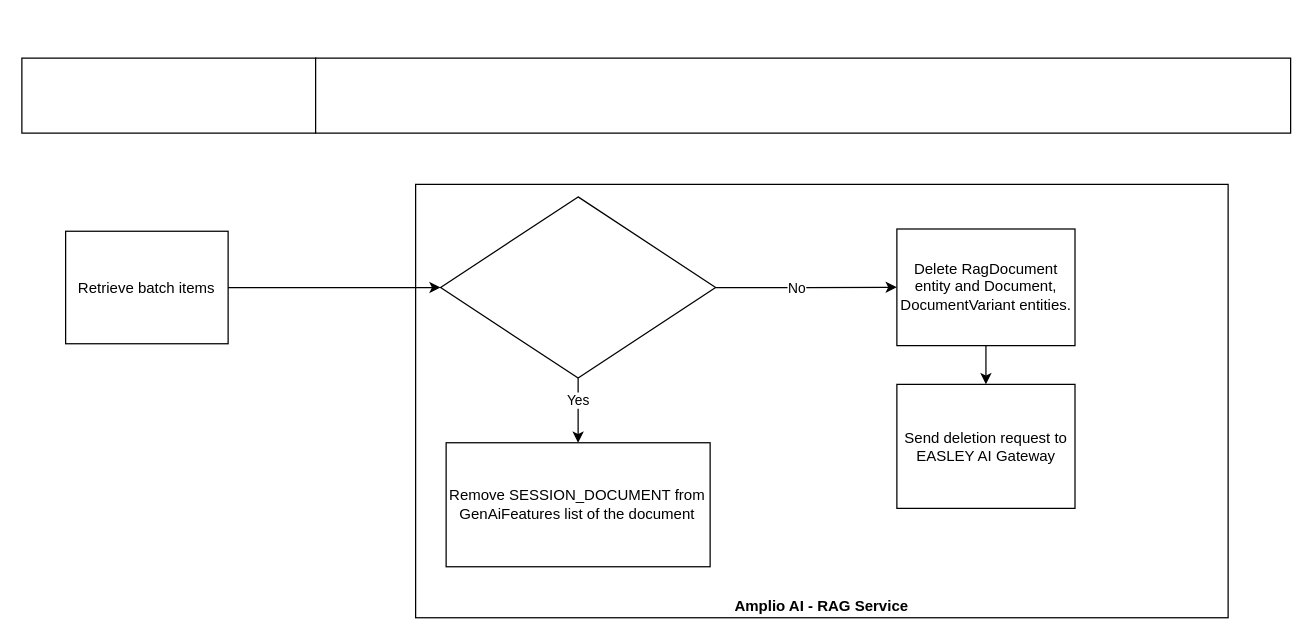
The diagram is 1313 pixels wide and 640 high, and some of its shapes have lost their labels. Each missing label, with the box of its shape:
Document has other GenAiFeatures beside SESSION_DOCUMENT?: (439, 196, 716, 378)
READ PHASE: (21, 57, 316, 133)
WRITE PHASE: (314, 57, 1291, 133)
